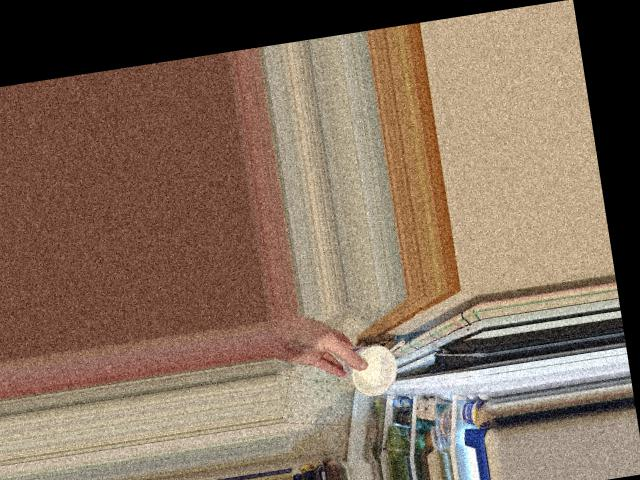cotage: (338, 340, 403, 395)
